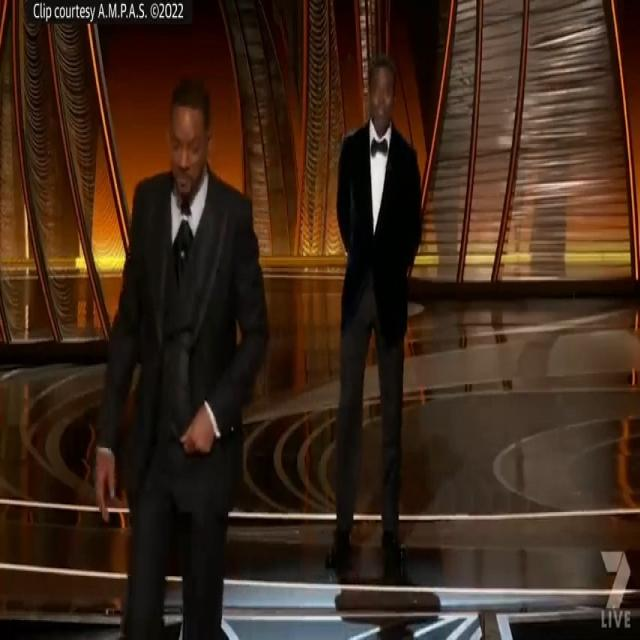non-fight: (70, 73, 272, 640), (316, 43, 428, 604)
